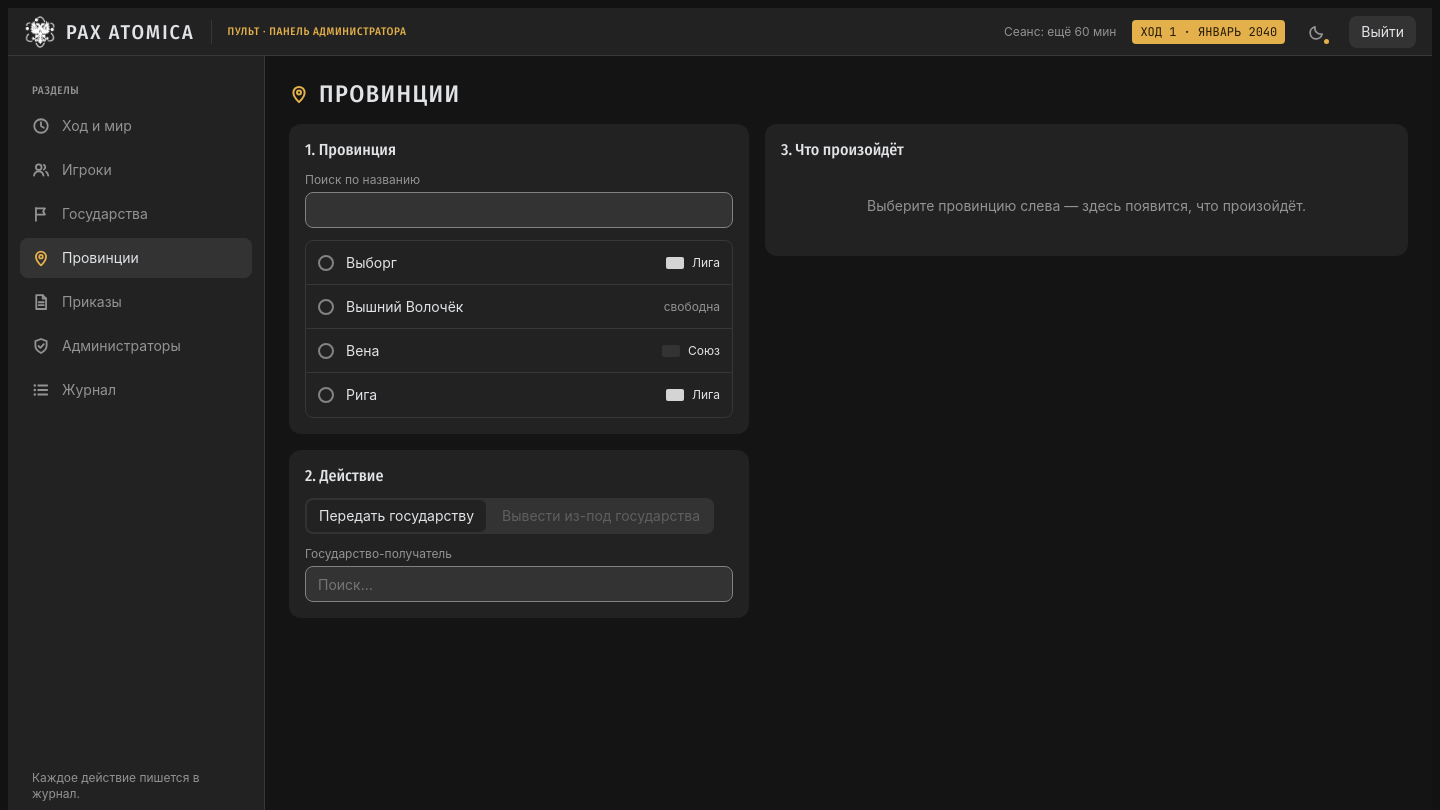
Test: keeps the withdraw segment disabled for a free province
Check: the element with test id "province-list" is shown, box [305,240,733,418]
Click the button with test id "province-row-202".
click(405, 306)  # box [306,285,732,329]
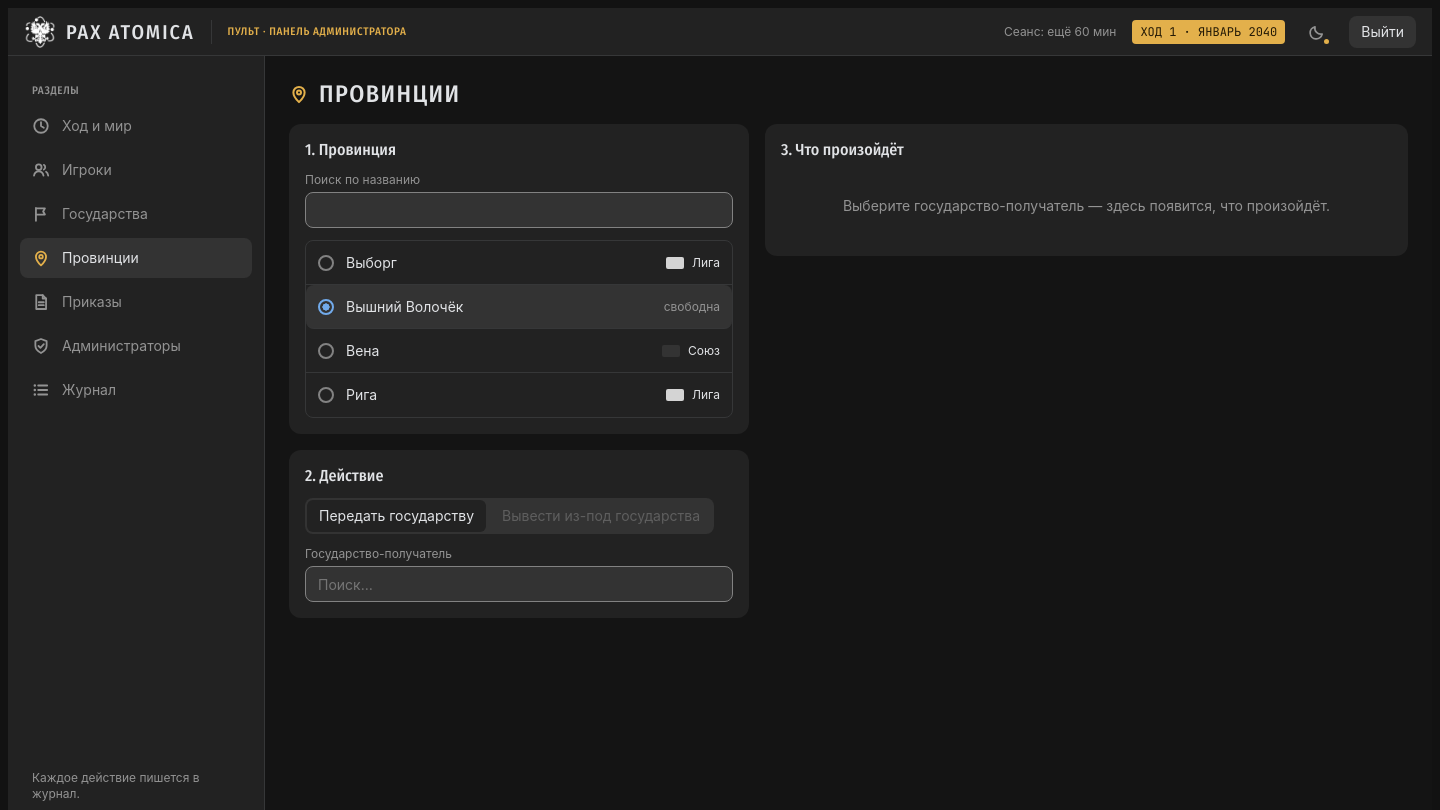
Check: the button with test id "action-withdraw" is disabled, box [490,500,712,532]
Click the button with test id "province-row-201".
click(371, 262)  # box [306,241,732,285]
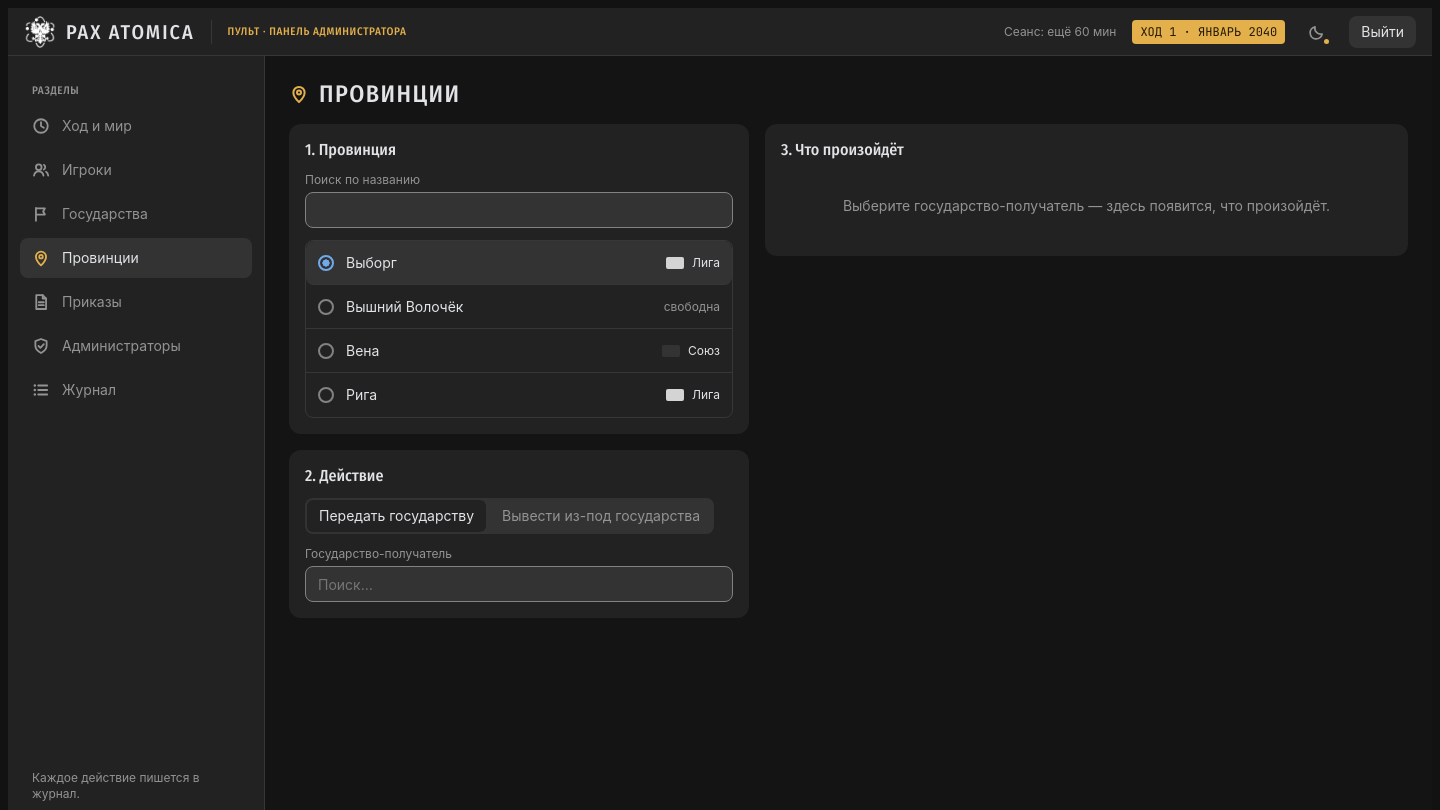
Check: the button with test id "action-withdraw" is enabled, box [490,500,712,532]
